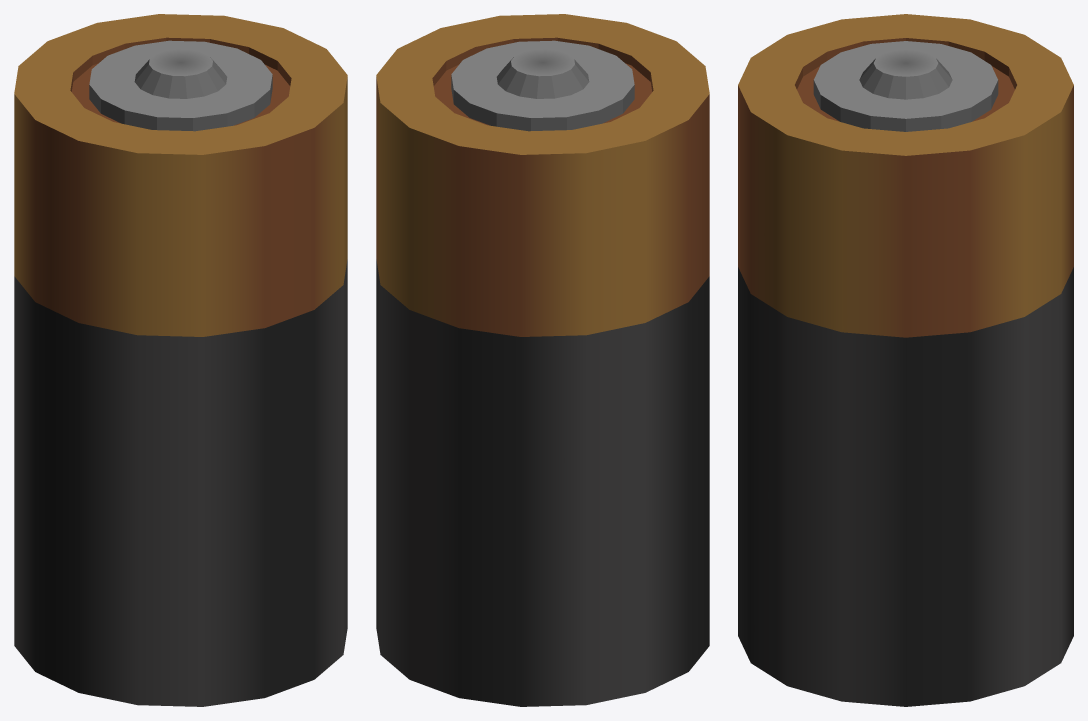
The model's file is human-electronics-battery_v1.glb.
3 views of the same model, side by side, from view 1: azimuth 30°, elevation 25°; view 2: azimuth 150°, elevation 25°; view 3: azimuth 270°, elevation 25° (orthographic).
Parts seen in each view (by area): view 1: Battery_v1; view 2: Battery_v1; view 3: Battery_v1.
Part boxes in pixels (left/top/right/bottom): Battery_v1: left=14, top=14, right=347, bottom=706; Battery_v1: left=376, top=14, right=709, bottom=706; Battery_v1: left=738, top=14, right=1073, bottom=706.
Size of the model in its own units: 0.0313 by 0.06 by 0.0313.
